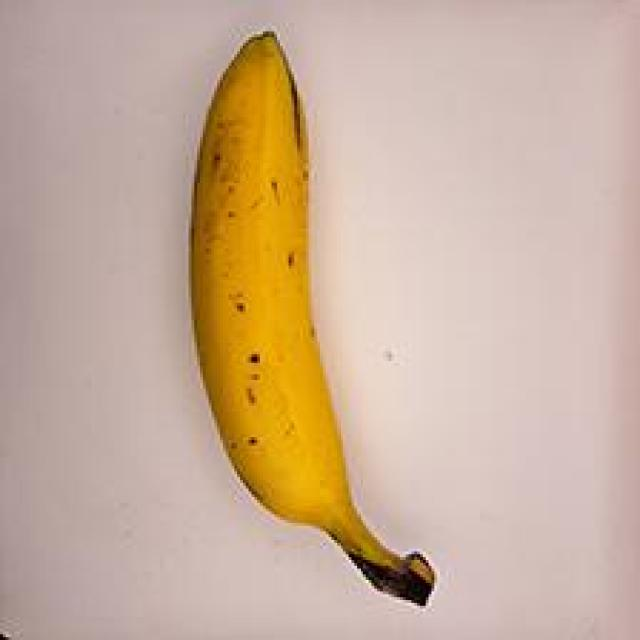Ripe: (161, 22, 473, 628)
